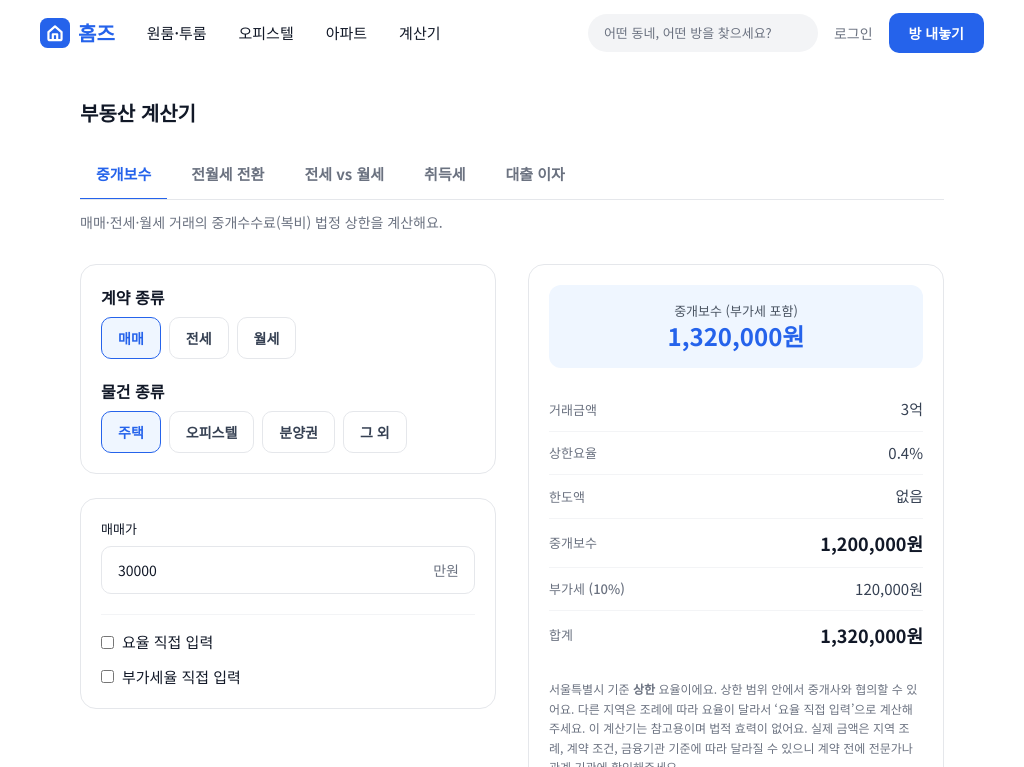
Test: brokerage fee tab › uses a custom rate without the cap and a custom VAT rate
Replace the text in the number field labelled "매매가" with "19000". click: (288, 570)
box: [101,546,475,594]
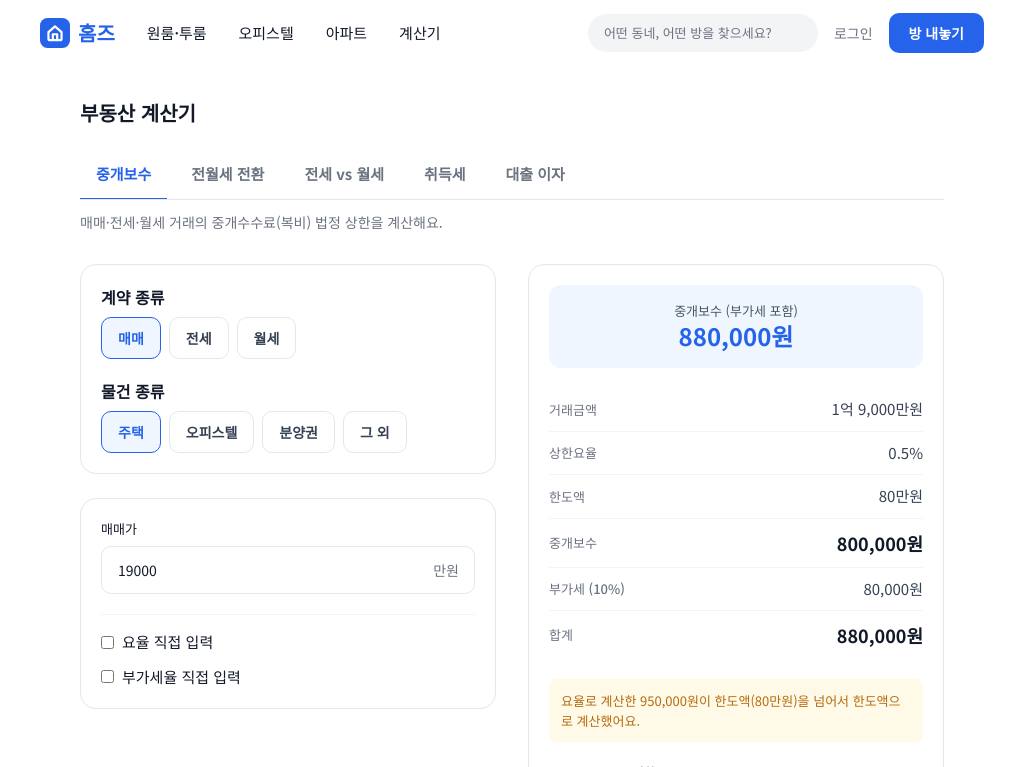
Click the checkbox labelled "요율 직접 입력". click: (108, 642)
box: [101,636,114,649]
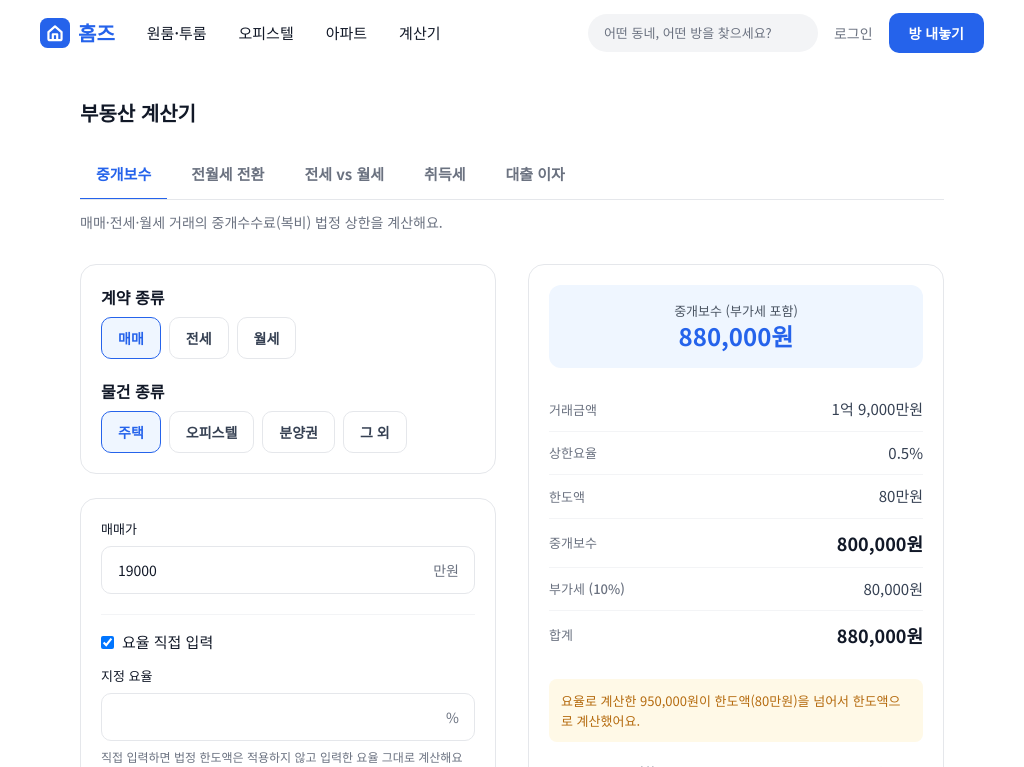
Type "0.3" into the number field labelled "지정 요율". click: (288, 717)
box: [101,693,475,741]
(page scrolled)
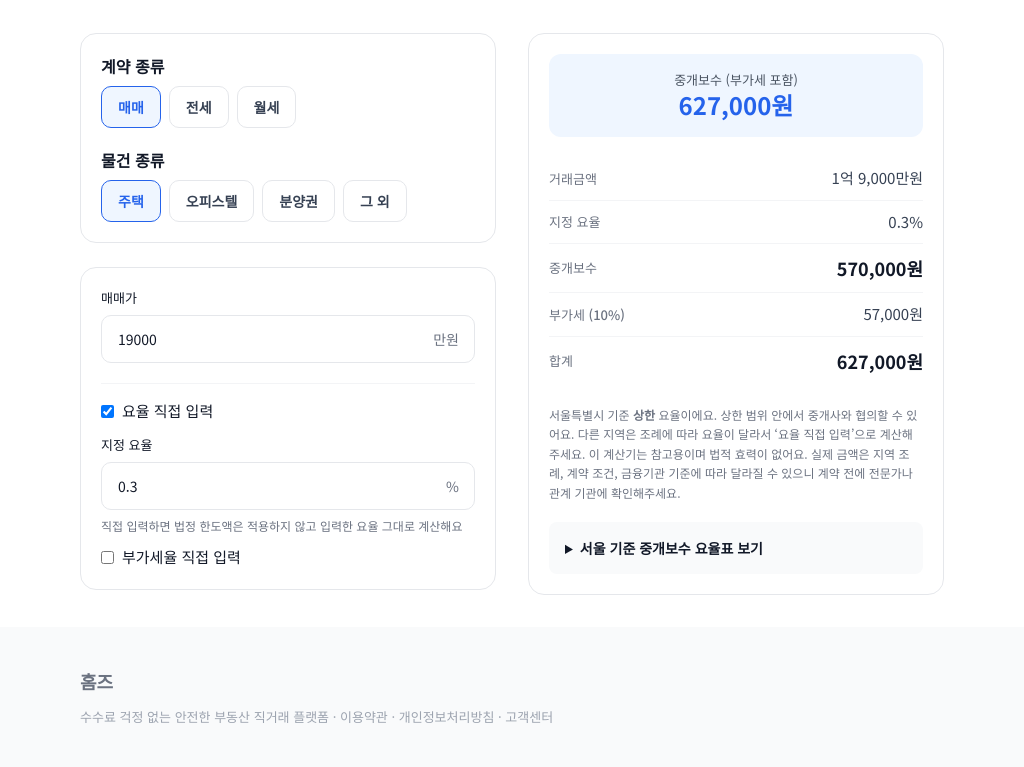
Click the checkbox labelled "부가세율 직접 입력". click: (108, 557)
box: [101,551,114,564]
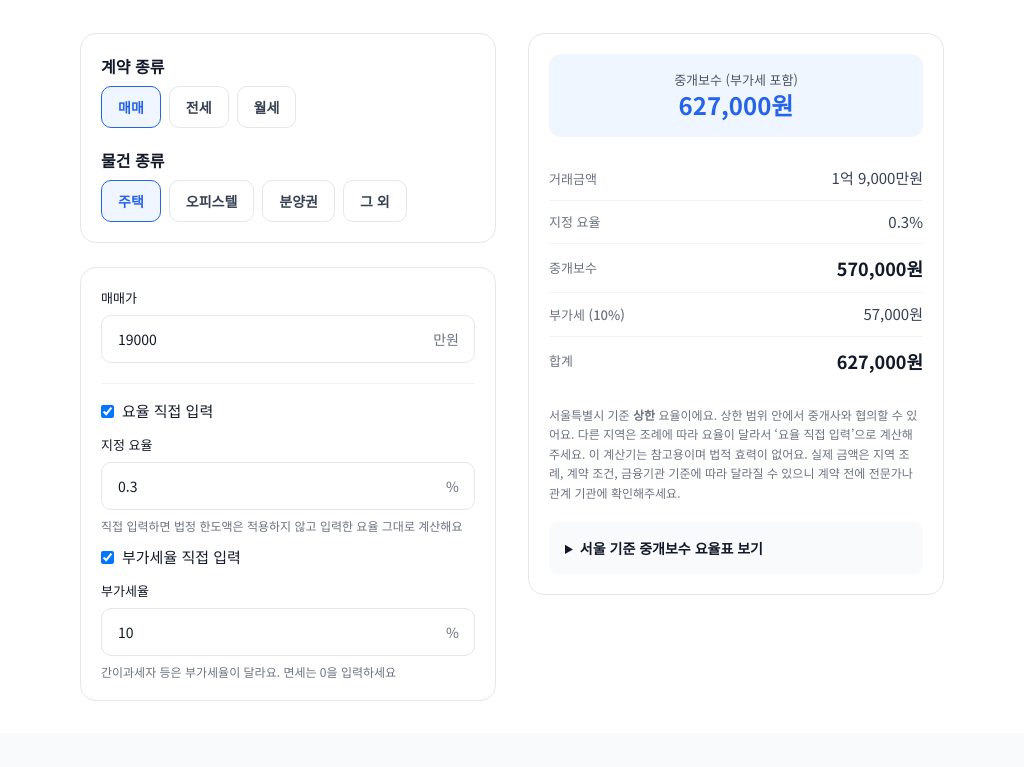
Replace the text in the number field labelled "부가세율" with "0". click: (288, 632)
box: [101,608,475,656]
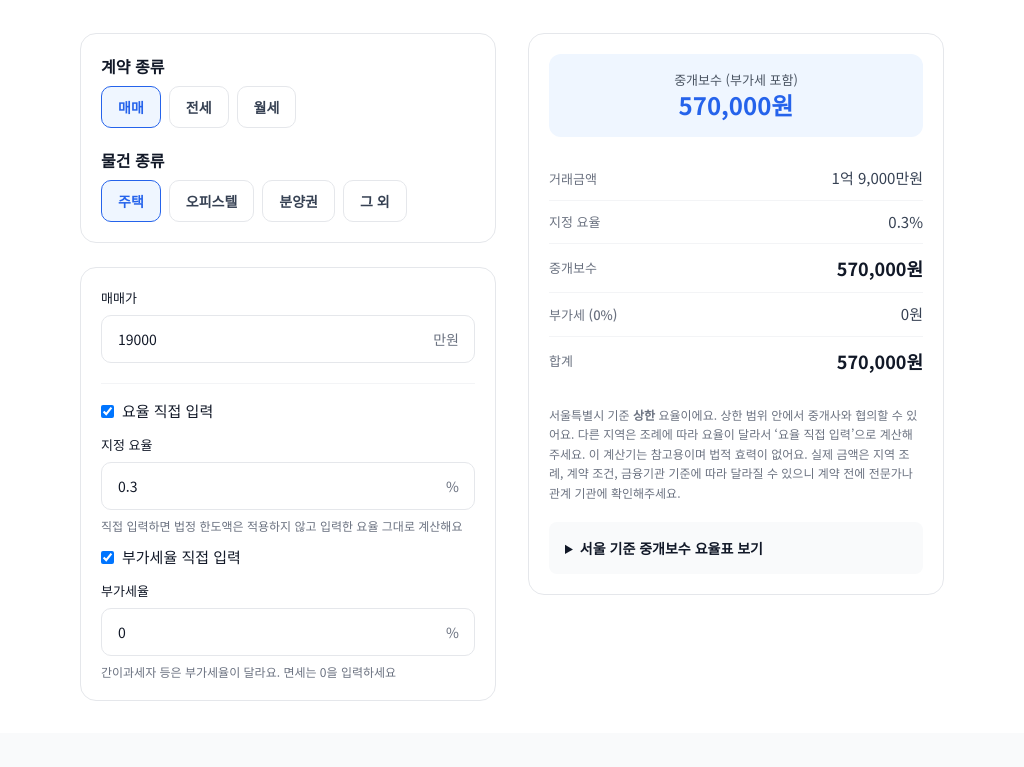
Now the text "570,000원" below "중개보수 (부가세 포함)" is shown, box [679,87,794,122]
